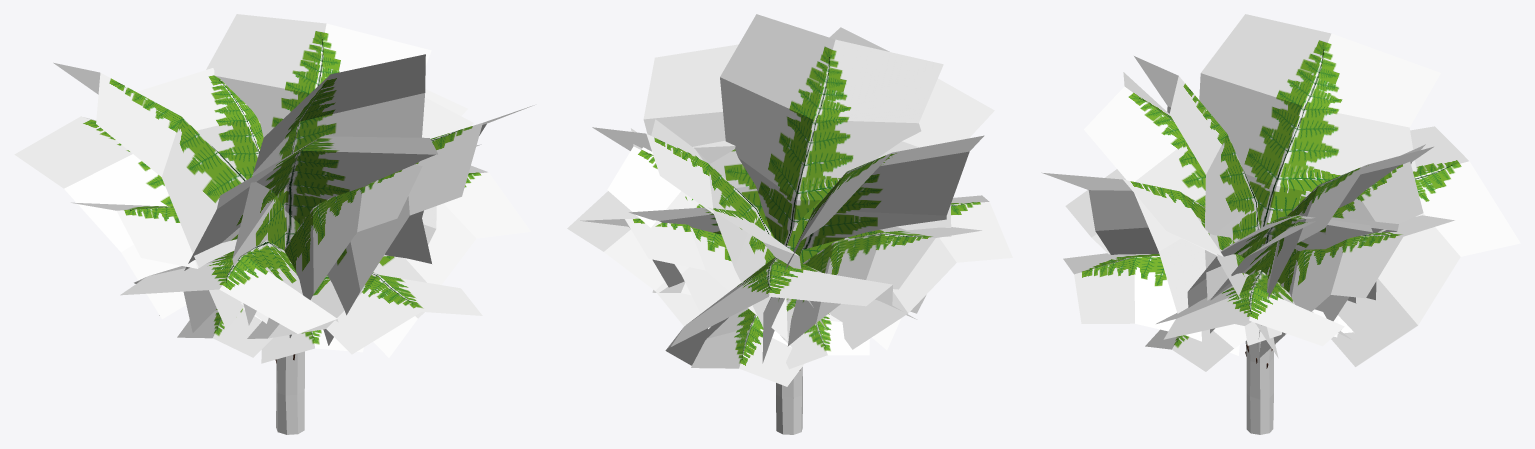
The model's file is dicksonia_antarctica_tall.fbx.
The picture shows the model from 3 angles, left to right: view 1: azimuth 30°, elevation 25°; view 2: azimuth 150°, elevation 25°; view 3: azimuth 270°, elevation 25°; orthographic projection. The views are drawn at different scales.
Visible parts, largest first — view 1: dicksonia_antarctica_fern_tall_LOD0, dicksonia_antarctica_tall_LOD0; view 2: dicksonia_antarctica_fern_tall_LOD0, dicksonia_antarctica_tall_LOD0; view 3: dicksonia_antarctica_fern_tall_LOD0, dicksonia_antarctica_tall_LOD0.
Boxes of the visible parts, left/top/right/bottom form: dicksonia_antarctica_fern_tall_LOD0: left=14, top=14, right=534, bottom=363; dicksonia_antarctica_tall_LOD0: left=275, top=351, right=304, bottom=434; dicksonia_antarctica_fern_tall_LOD0: left=567, top=14, right=1012, bottom=386; dicksonia_antarctica_tall_LOD0: left=776, top=367, right=802, bottom=434; dicksonia_antarctica_fern_tall_LOD0: left=1041, top=14, right=1520, bottom=371; dicksonia_antarctica_tall_LOD0: left=1245, top=340, right=1273, bottom=434.
Size of what is drawn, in the model's own units: 1212 by 1100 by 1354.
